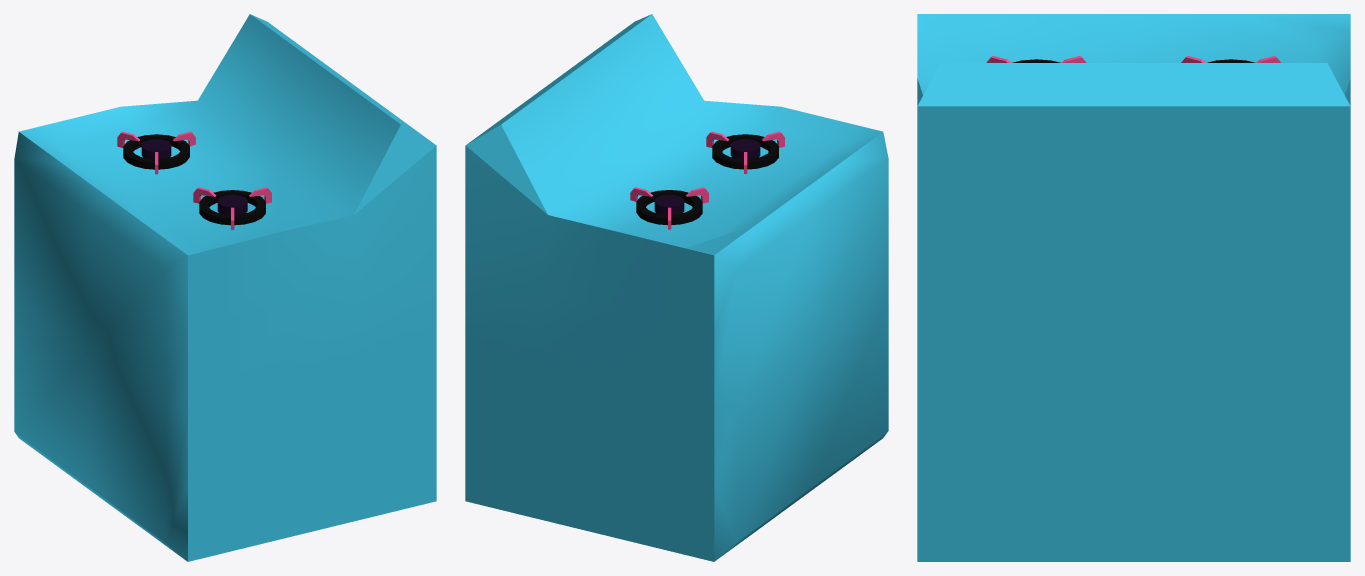
Rendered from Hearth_002.FBX.
3 renders of one model, left to right at view 1: azimuth 30°, elevation 25°; view 2: azimuth 150°, elevation 25°; view 3: azimuth 270°, elevation 25°, orthographic. The views are drawn at different scales.
Visible parts, largest first — view 1: Box002, Cylinder006, Cylinder009, Cylinder010, Cylinder008; view 2: Box002, Cylinder009, Cylinder006, Cylinder008, Cylinder010; view 3: Box002.
Boxes of the visible parts, x1,y1,x2,y2 form: Box002: [14, 14, 436, 561]; Cylinder006: [123, 134, 189, 169]; Cylinder009: [199, 190, 265, 225]; Cylinder010: [217, 194, 247, 214]; Cylinder008: [141, 139, 171, 158]; Box002: [465, 14, 888, 561]; Cylinder009: [712, 134, 778, 169]; Cylinder006: [636, 190, 702, 225]; Cylinder008: [654, 194, 684, 214]; Cylinder010: [730, 139, 760, 158]; Box002: [917, 14, 1350, 561].
Size of the model in its own units: 0.8956 by 1.23 by 1.
